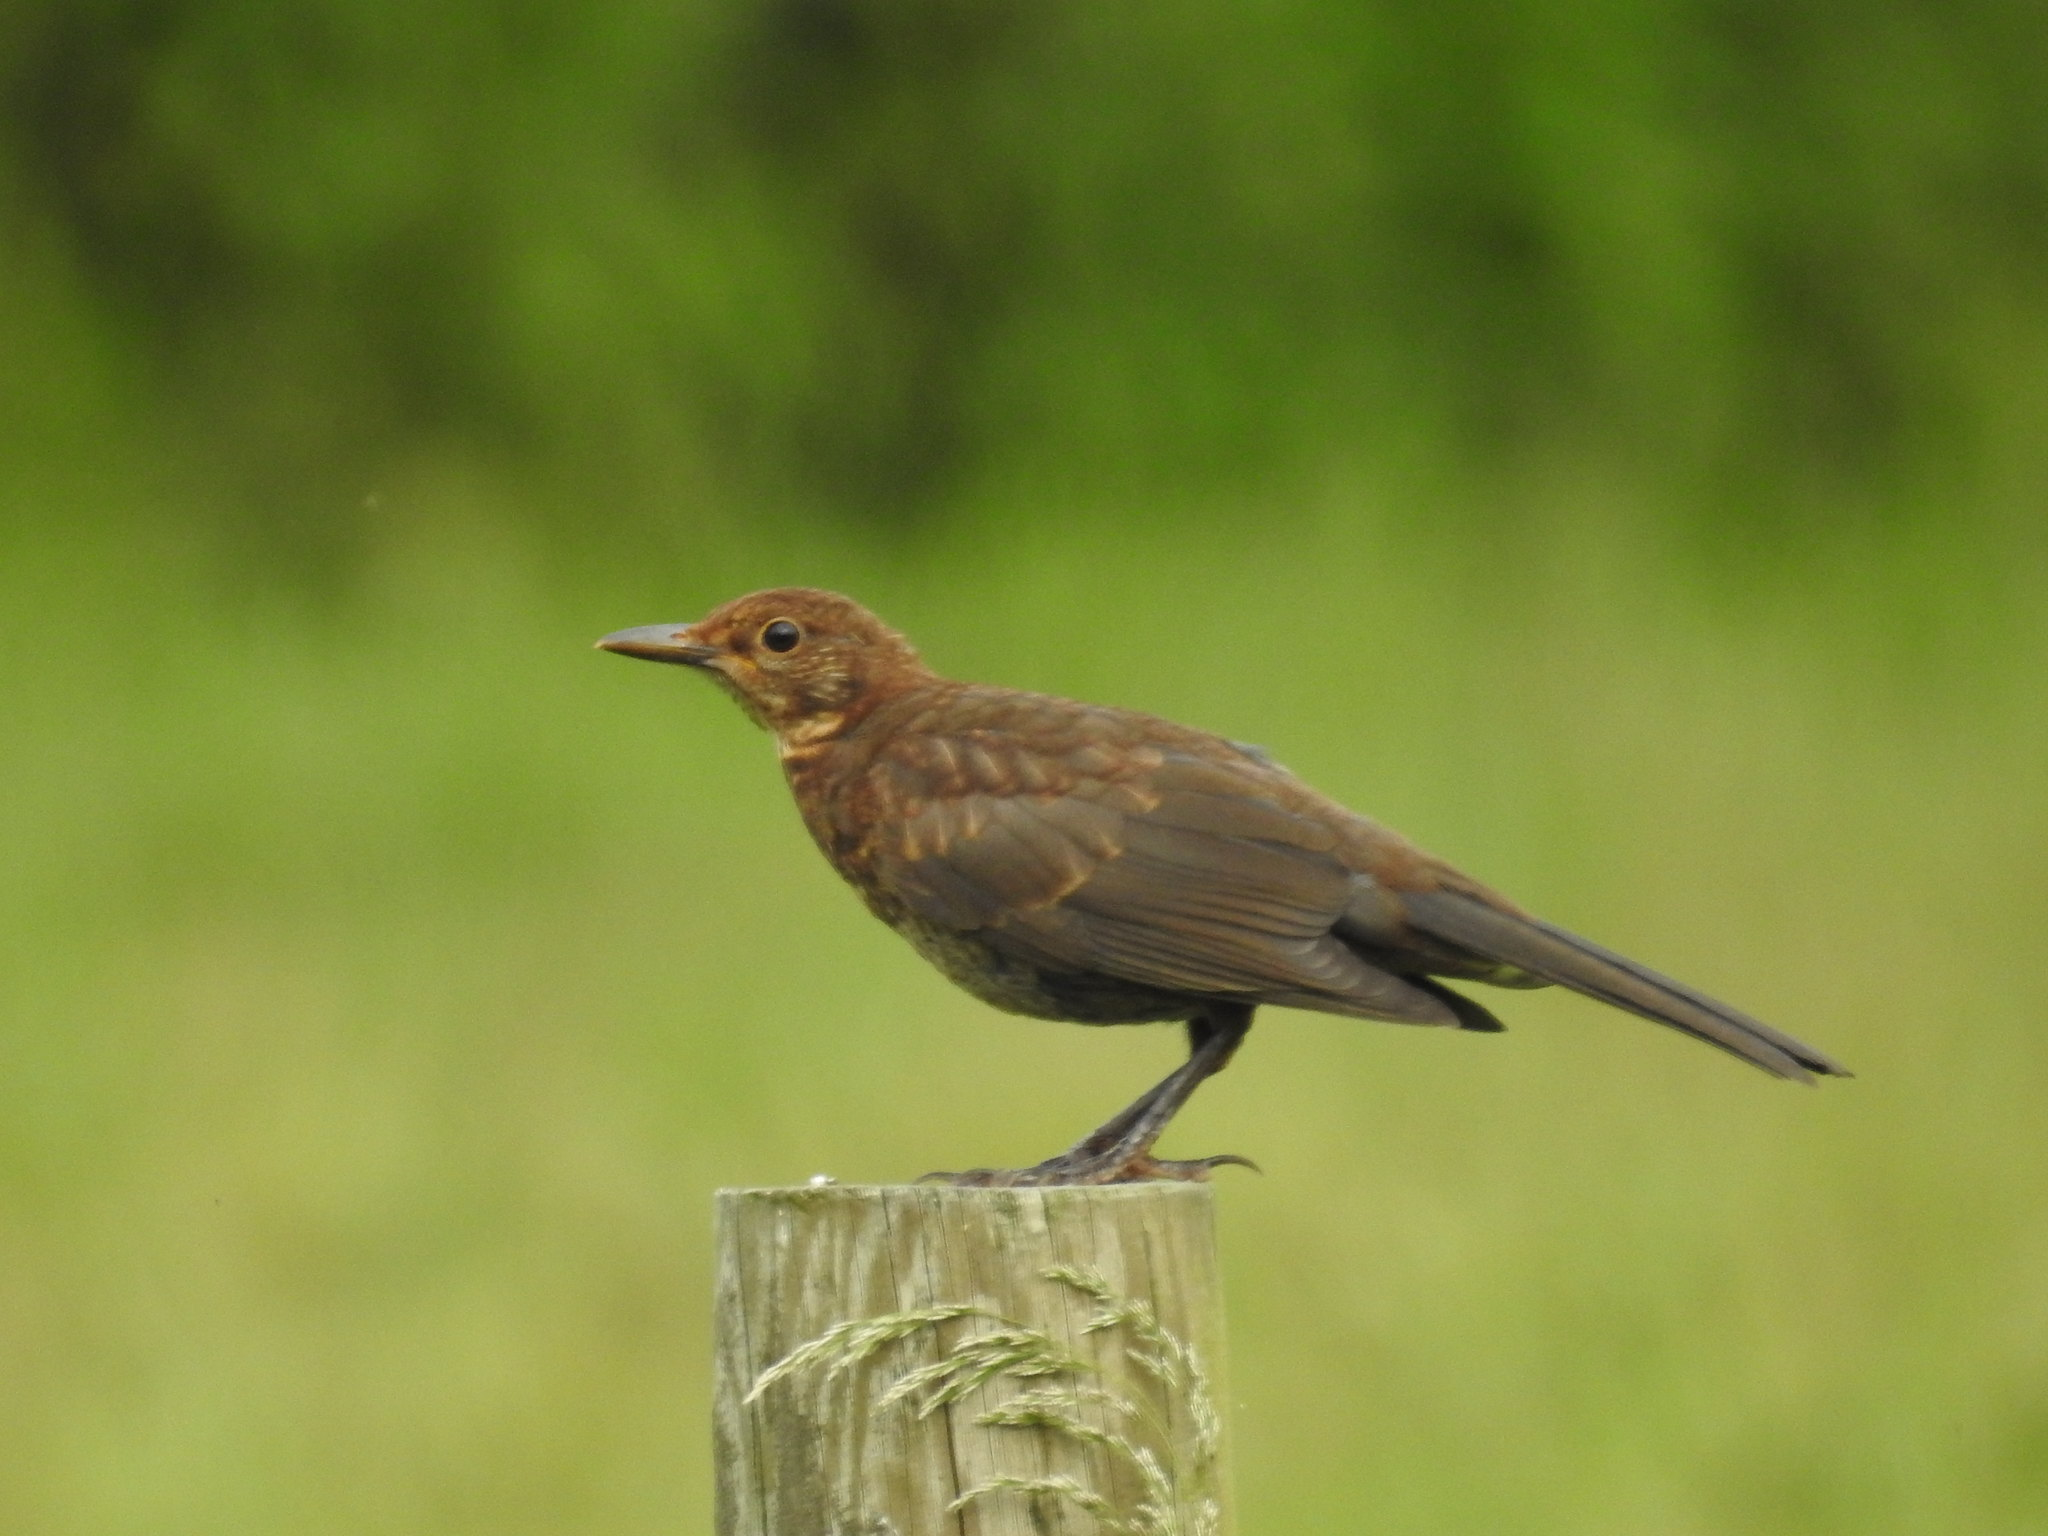bird: (589, 586, 1872, 1207)
